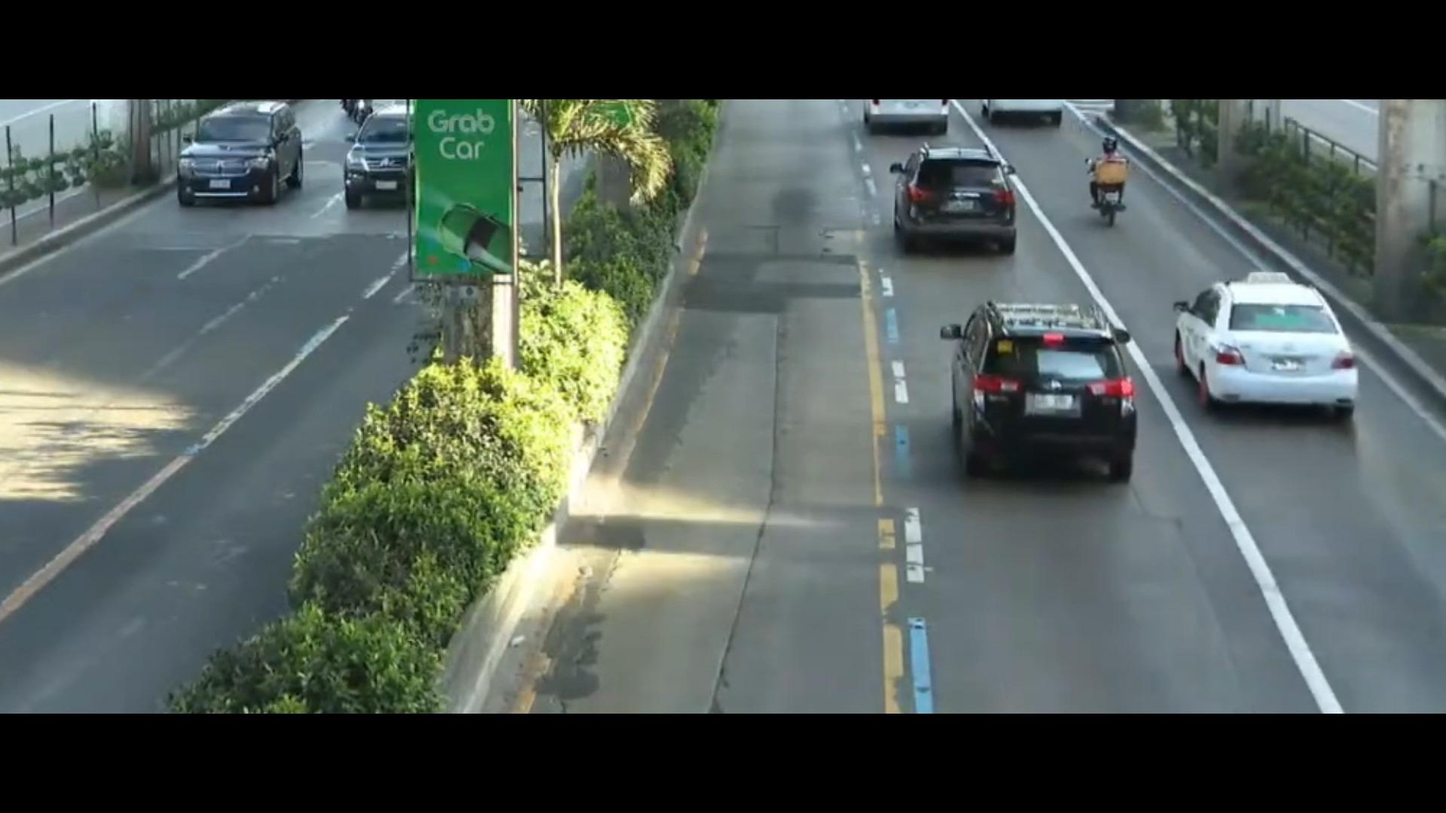Motorcycle: (1088, 133, 1163, 242)
SUV: (932, 274, 1160, 505), (879, 131, 1045, 262), (165, 98, 304, 216), (342, 105, 409, 216)
Sedan: (1162, 256, 1366, 422)
